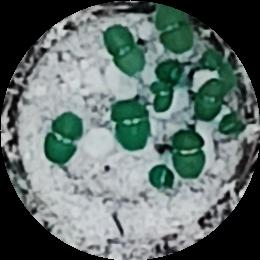Basil: (41, 113, 86, 159), (111, 99, 149, 153), (103, 25, 144, 75), (160, 4, 198, 53), (173, 127, 207, 178), (195, 82, 224, 123), (220, 107, 246, 135), (152, 77, 171, 113), (147, 165, 174, 187)
